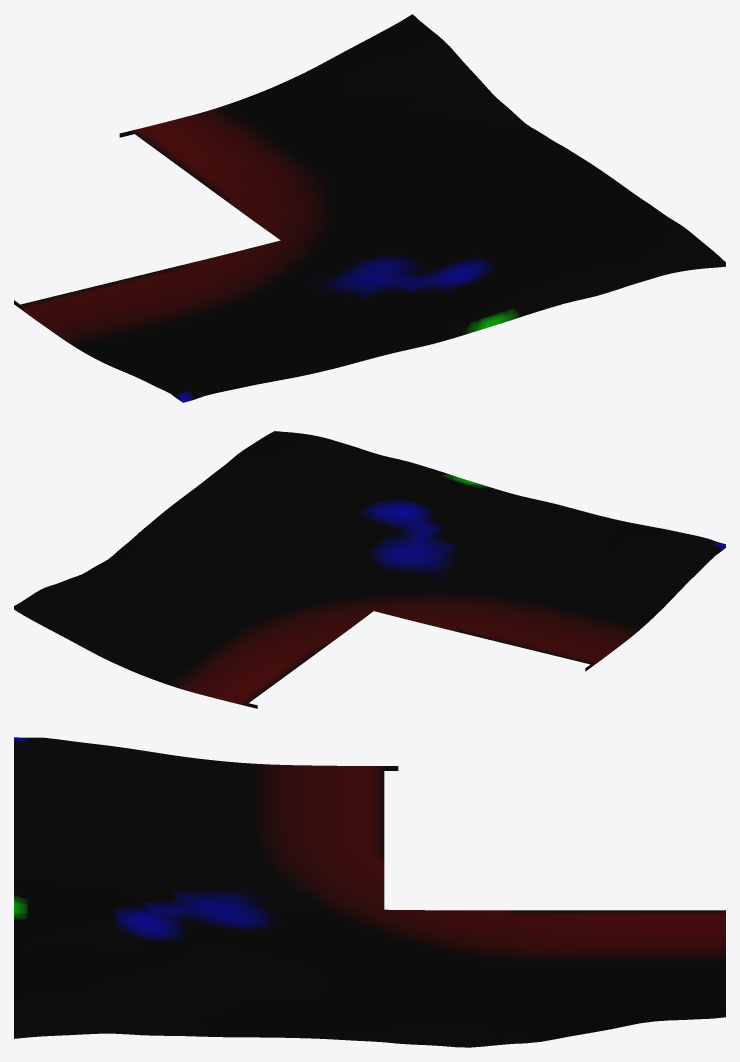
File: coast_13_13.glb
3 views of the same model, one above another, from view 1: azimuth 30°, elevation 25°; view 2: azimuth 150°, elevation 25°; view 3: azimuth 270°, elevation 25° (orthographic). The views are drawn at different scales.
Parts seen in each view (by area): view 1: terrain; view 2: terrain; view 3: terrain.
Boxes of the visible parts, box(x1,y1,x2,y2) form: terrain: box(14, 14, 725, 402); terrain: box(14, 431, 725, 708); terrain: box(14, 737, 725, 1047).
Bounding box in the file's own units: 200 × 18.38 × 200.
